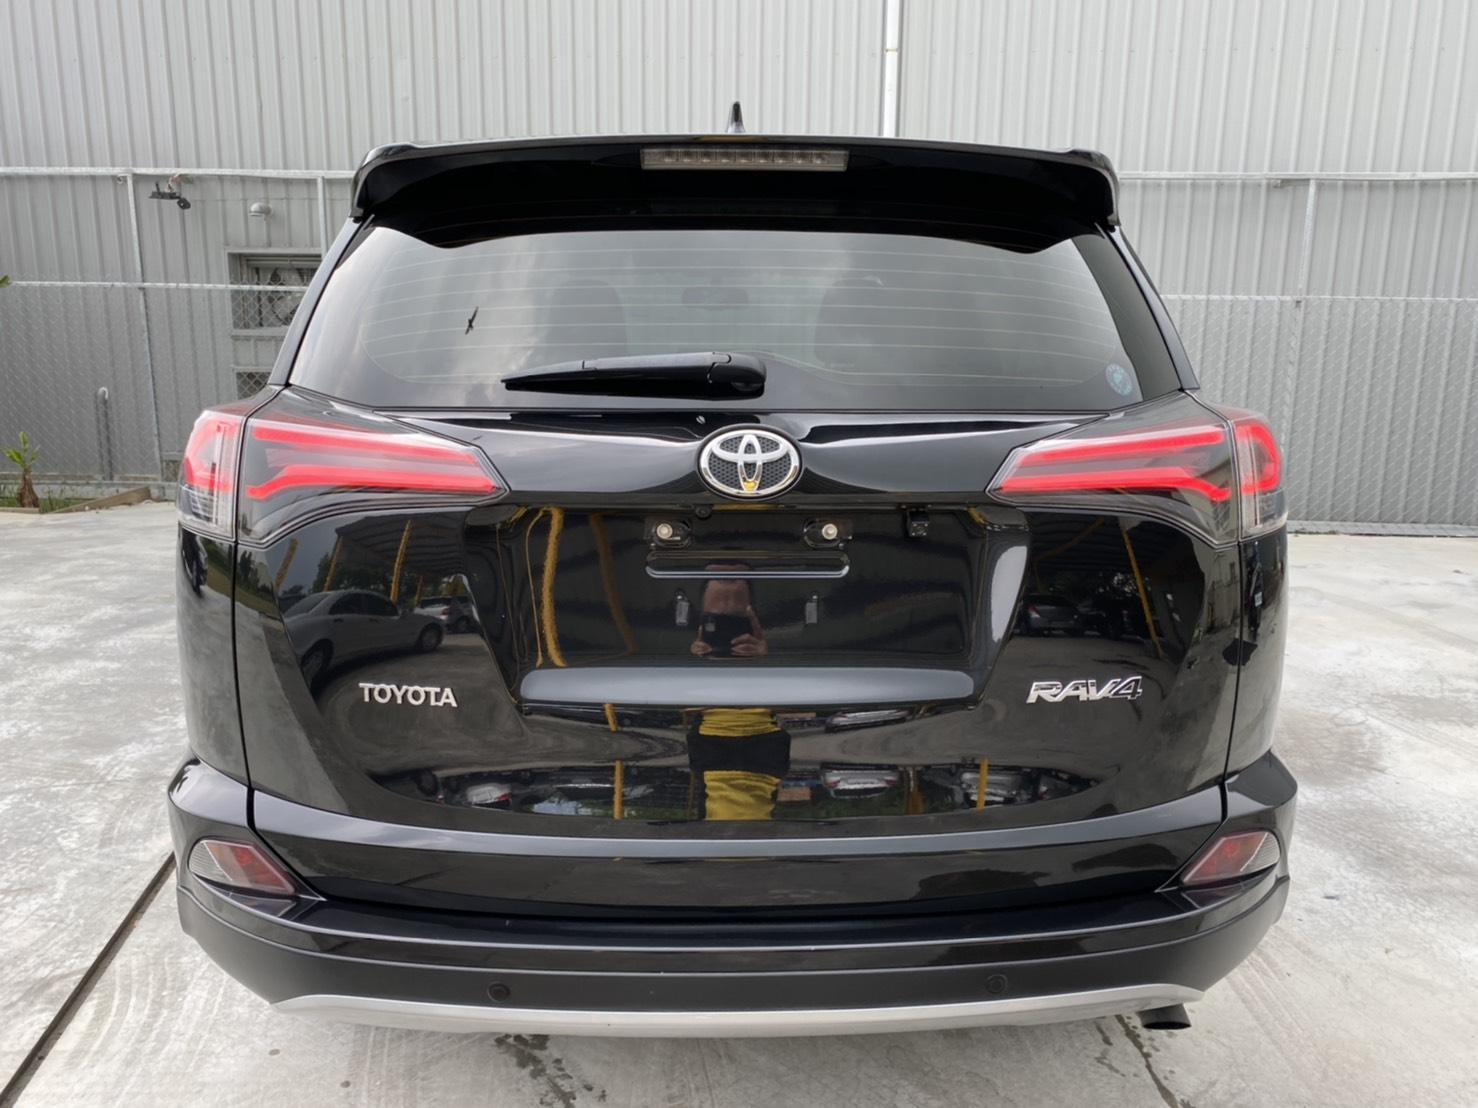toyota_rav4: (185, 141, 1277, 1011)
